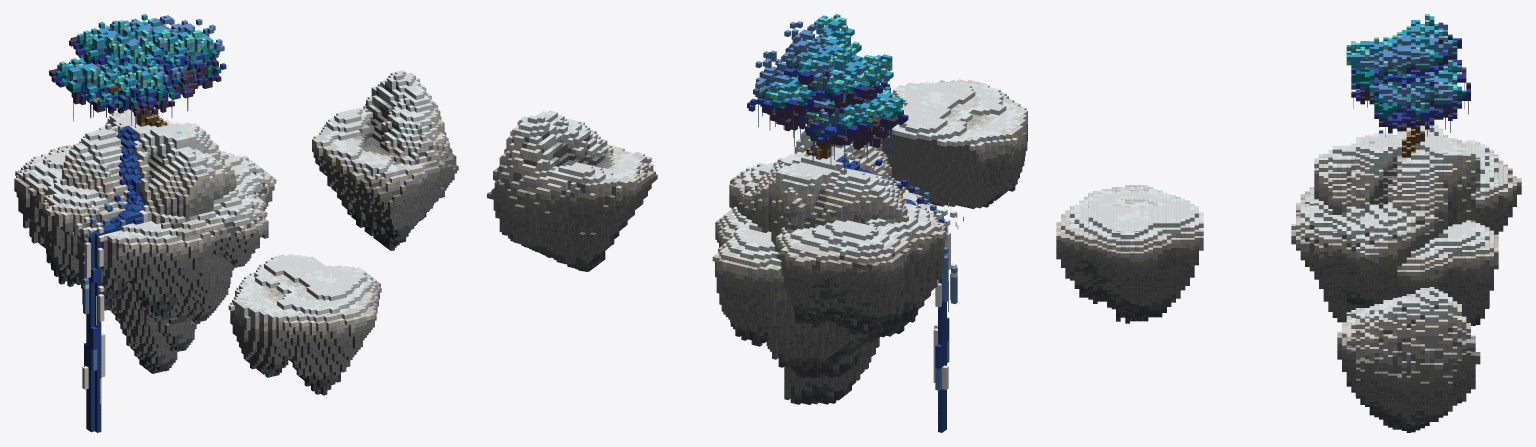
File: diamond.glb
The picture shows the model from 3 angles, left to right: view 1: azimuth 30°, elevation 25°; view 2: azimuth 150°, elevation 25°; view 3: azimuth 270°, elevation 25°; orthographic projection. The views are drawn at different scales.
Parts seen in each view (by area): view 1: minecraft:andesite; view 2: minecraft:andesite; view 3: minecraft:andesite.
Boxes of the visible parts, x1,y1,x2,y2 form: minecraft:andesite: (14, 14, 458, 432); minecraft:andesite: (487, 14, 1027, 432); minecraft:andesite: (1056, 14, 1521, 432).
Bounding box in the file's own units: 102 × 88 × 101.
Materials: 31 (31 with a texture image).
